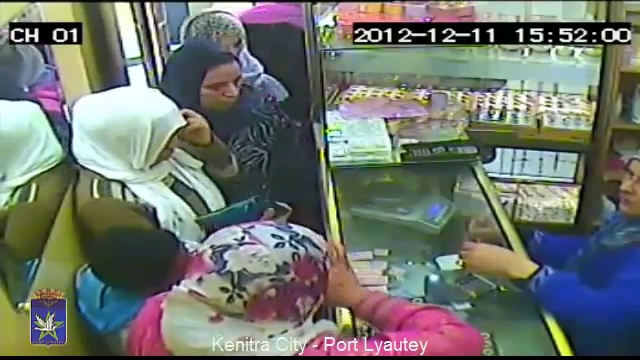face: (201, 69, 243, 112), (617, 156, 640, 218)
